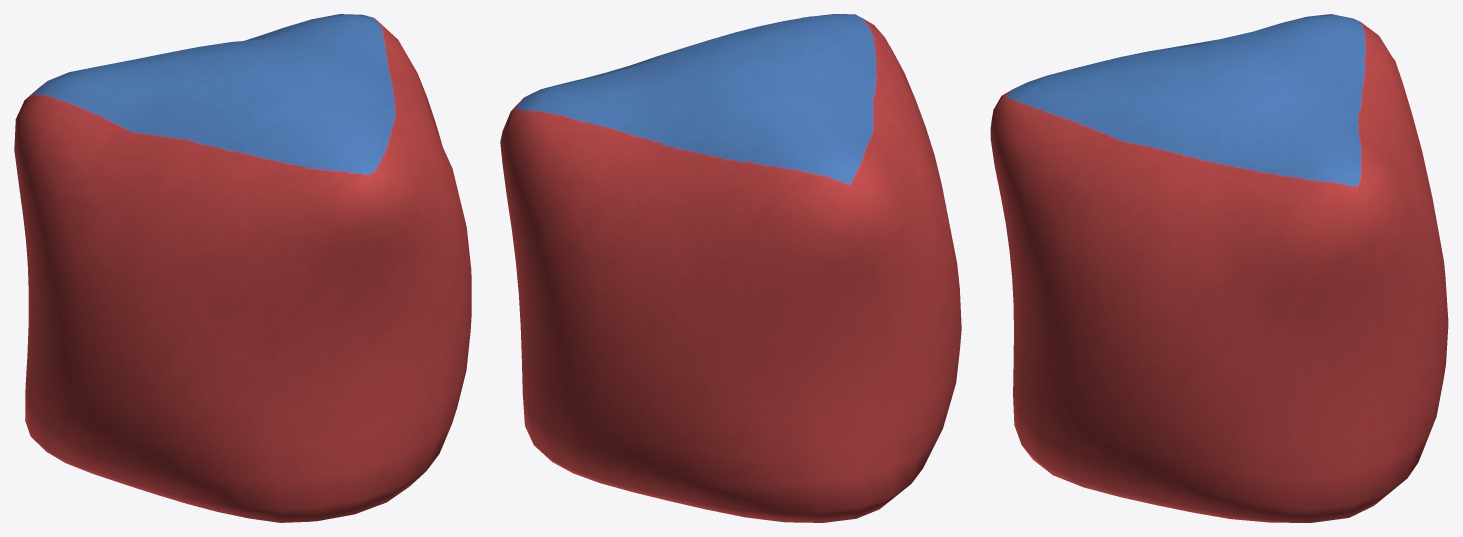
Rendered from Cake_S.fbx.
The picture shows the model from 3 angles, left to right: view 1: azimuth 30°, elevation 25°; view 2: azimuth 150°, elevation 25°; view 3: azimuth 270°, elevation 25°; orthographic projection.
Visible parts, largest first — view 1: Cakes_S; view 2: Cakes_S; view 3: Cakes_S.
Part boxes in pixels (left/top/right/bottom): Cakes_S: left=14, top=14, right=471, bottom=522; Cakes_S: left=500, top=14, right=961, bottom=522; Cakes_S: left=990, top=14, right=1448, bottom=522.
Size of the model in its own units: 129 by 122 by 129.
